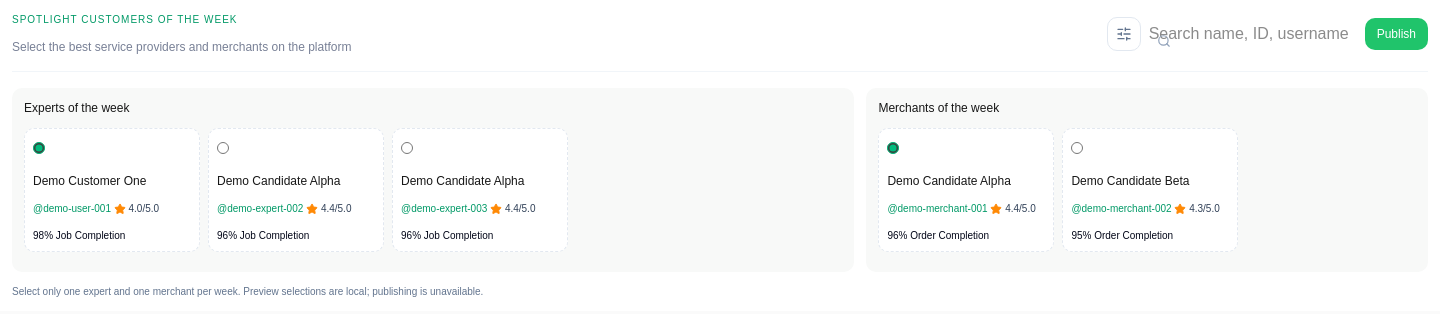
keeps one independent selection per category without enabling publication
Click the radio button with aria-label "Select Demo Candidate Alpha demo-expert-002" at (223, 148), box [217,142,229,154]
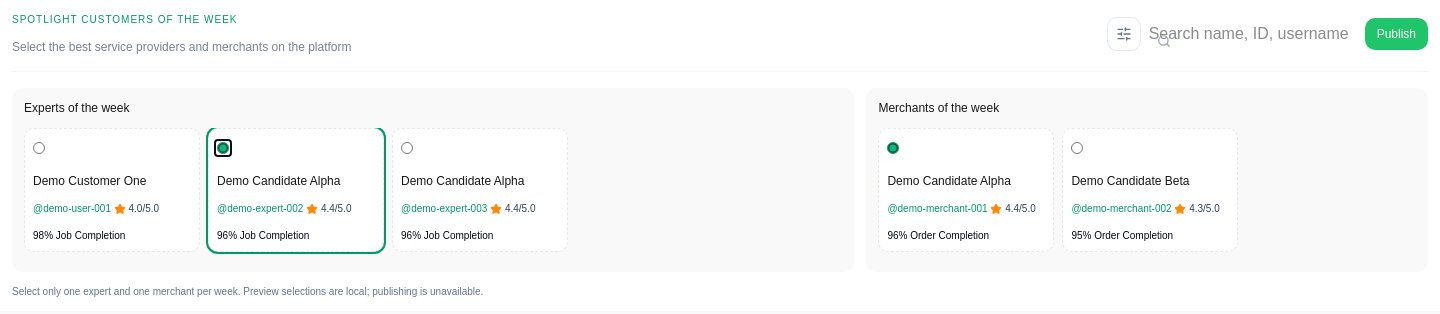
Expected: the radio button with aria-label "Select Demo Candidate Alpha demo-merchant-001" is checked, [887,142,899,154]
Result: the radio button with aria-label "Select Demo Candidate Alpha demo-expert-002" is checked at [217,142,229,154]
Result: the radio button with aria-label "Select Demo Customer One demo-expert-001" is not checked at [33,142,45,154]
Type "missing" into the field named "Search spotlight candidates" at (1252, 34), box [1149,22,1356,46]
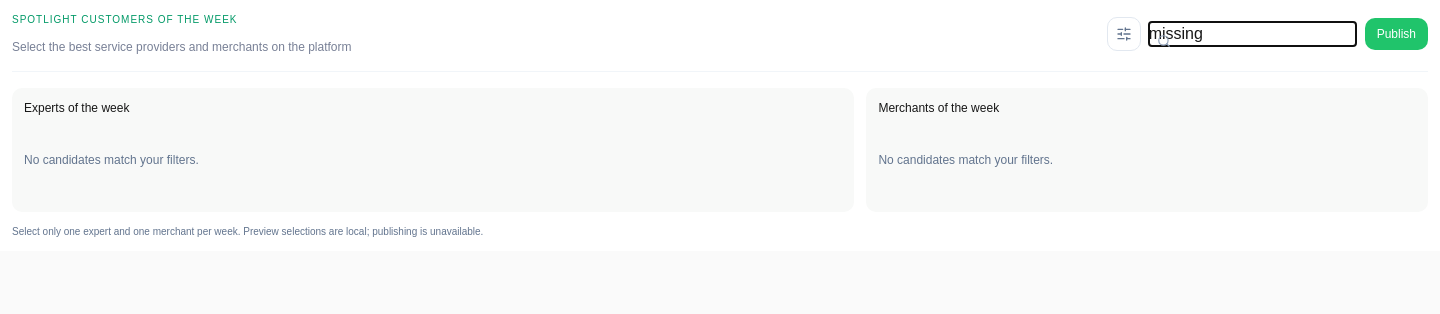
Result: the text "No candidates match your filters." is shown 2 times at [24,153,199,167]; [878,153,1053,167]
